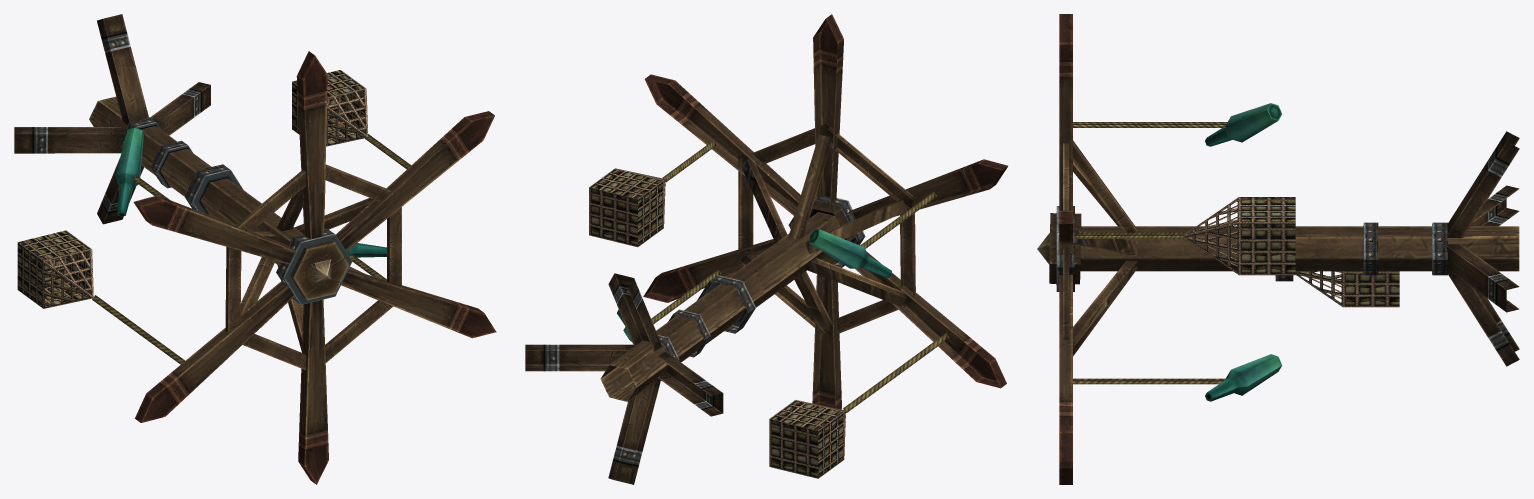
The model's file is yatelandisi_fuben_223_hwjia_01.obj.
The picture shows the model from 3 angles, left to right: view 1: azimuth 30°, elevation 25°; view 2: azimuth 150°, elevation 25°; view 3: azimuth 270°, elevation 25°; orthographic projection. The views are drawn at different scales.
Visible parts, largest first — view 1: yatelandisi_fuben_223_hwjia_01; view 2: yatelandisi_fuben_223_hwjia_01; view 3: yatelandisi_fuben_223_hwjia_01.
Boxes of the visible parts, <box> form: yatelandisi_fuben_223_hwjia_01: <box>14,14,496,484</box>; yatelandisi_fuben_223_hwjia_01: <box>525,14,1007,484</box>; yatelandisi_fuben_223_hwjia_01: <box>1037,14,1519,484</box>.
Bounding box in the file's own units: 146 × 168 × 157.
Materials: 1 (1 with a texture image).
